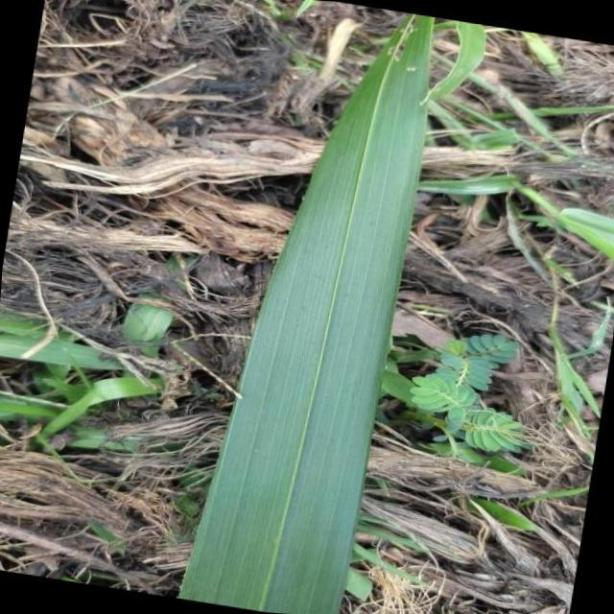Boron: (174, 9, 434, 614)
